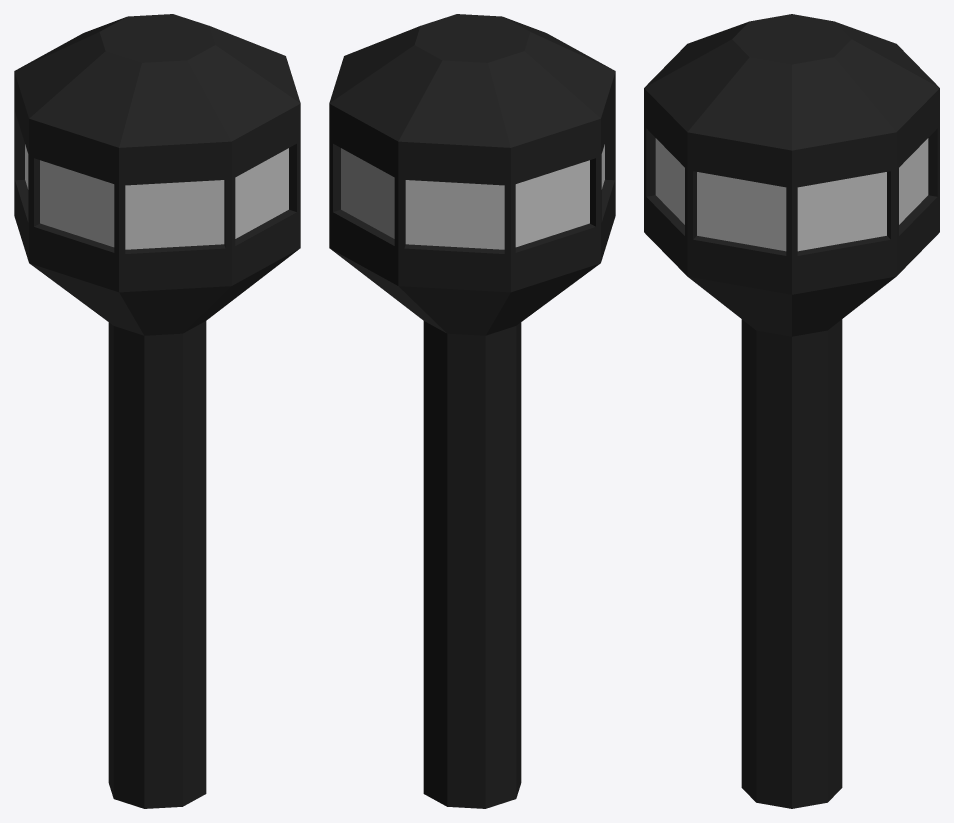
Rendered from exhaust4.glb.
3 views of the same model, side by side, from view 1: azimuth 30°, elevation 25°; view 2: azimuth 150°, elevation 25°; view 3: azimuth 270°, elevation 25° (orthographic).
Visible parts, largest first — view 1: exhaust4; view 2: exhaust4; view 3: exhaust4.
Boxes of the visible parts, box(x1,y1,x2,y2) form: exhaust4: box(14, 14, 300, 808); exhaust4: box(329, 14, 615, 808); exhaust4: box(644, 14, 939, 808).
Size of the model in its own units: 0.8654 by 2.41 by 0.8654.
1 material, 1 textured.
